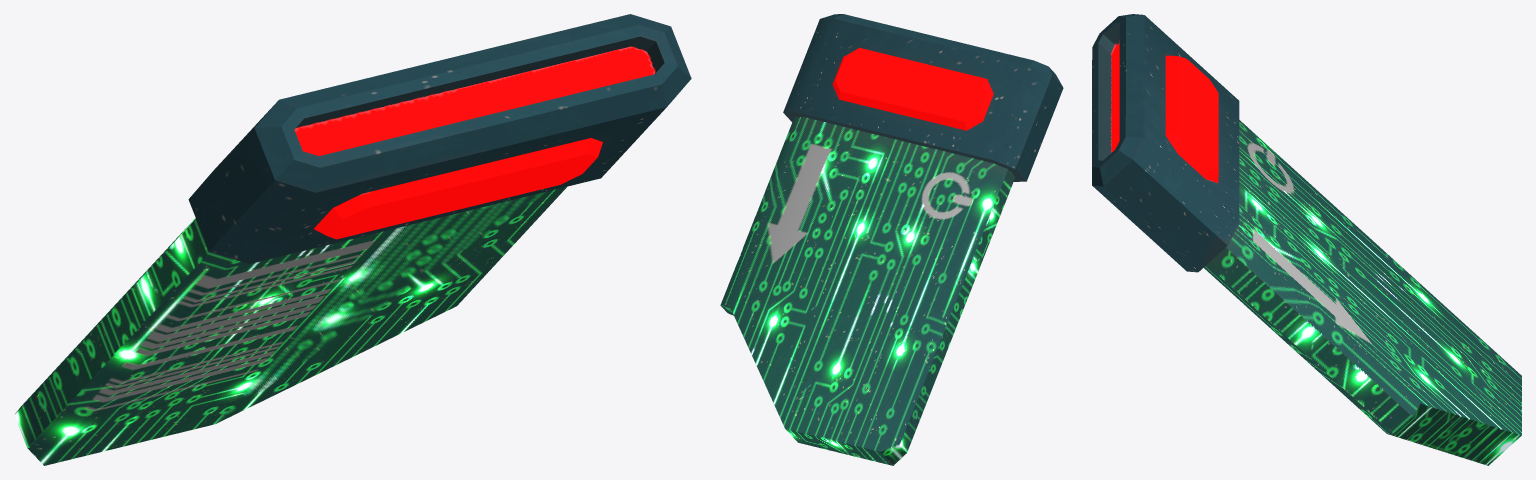
File: terminal_card.glb
3 views of the same model, side by side, from view 1: azimuth 30°, elevation 25°; view 2: azimuth 150°, elevation 25°; view 3: azimuth 270°, elevation 25° (orthographic). The views are drawn at different scales.
Visible parts, largest first — view 1: ID_KeyCard_004.001; view 2: ID_KeyCard_004.001; view 3: ID_KeyCard_004.001.
Boxes of the visible parts, x1,y1,x2,y2 form: ID_KeyCard_004.001: (14,14,691,465); ID_KeyCard_004.001: (720,14,1063,465); ID_KeyCard_004.001: (1092,14,1521,465).
Size of the model in its own units: 0.45 by 0.5601 by 0.5601.
Materials: 1 (1 with a texture image).
